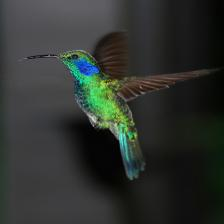Beak: (19, 54, 60, 61)
BirdBody: (23, 32, 220, 180)
Chest: (72, 74, 125, 129)
Head: (23, 50, 100, 78)
SkyBGD: (1, 0, 224, 224)
Tail: (109, 118, 145, 180)
Wing: (117, 68, 221, 102), (93, 31, 129, 79)
